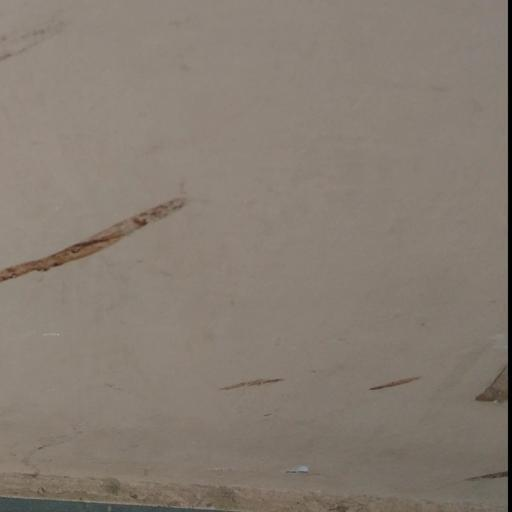stain: (1, 179, 245, 349), (221, 360, 292, 416), (353, 369, 427, 403), (470, 361, 512, 418), (456, 456, 512, 489)
